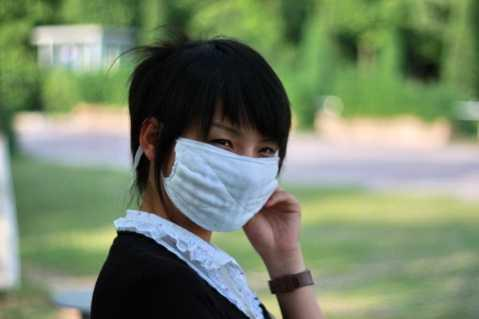OK: (163, 112, 278, 231)
